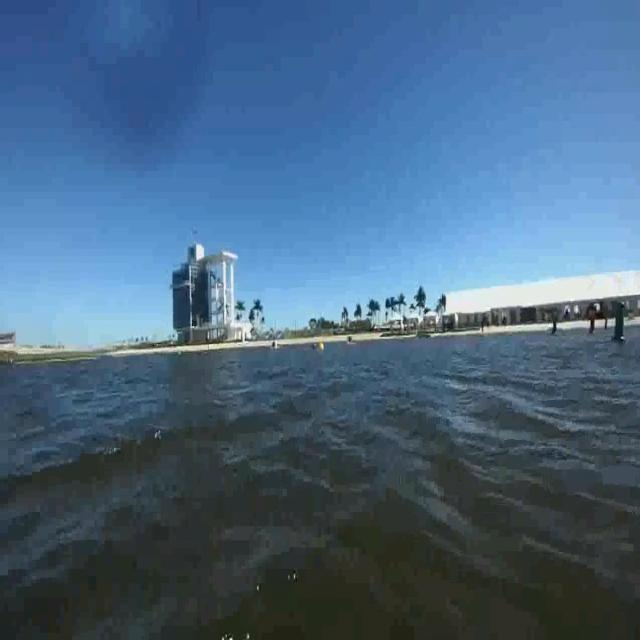green-column-buoy: (613, 300, 631, 344)
yellow-buoy: (318, 342, 325, 354)
